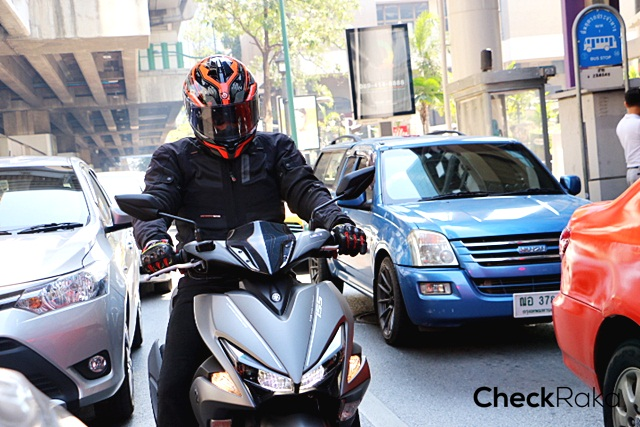helmet: (181, 55, 263, 162)
motorcycle: (110, 166, 378, 427)
